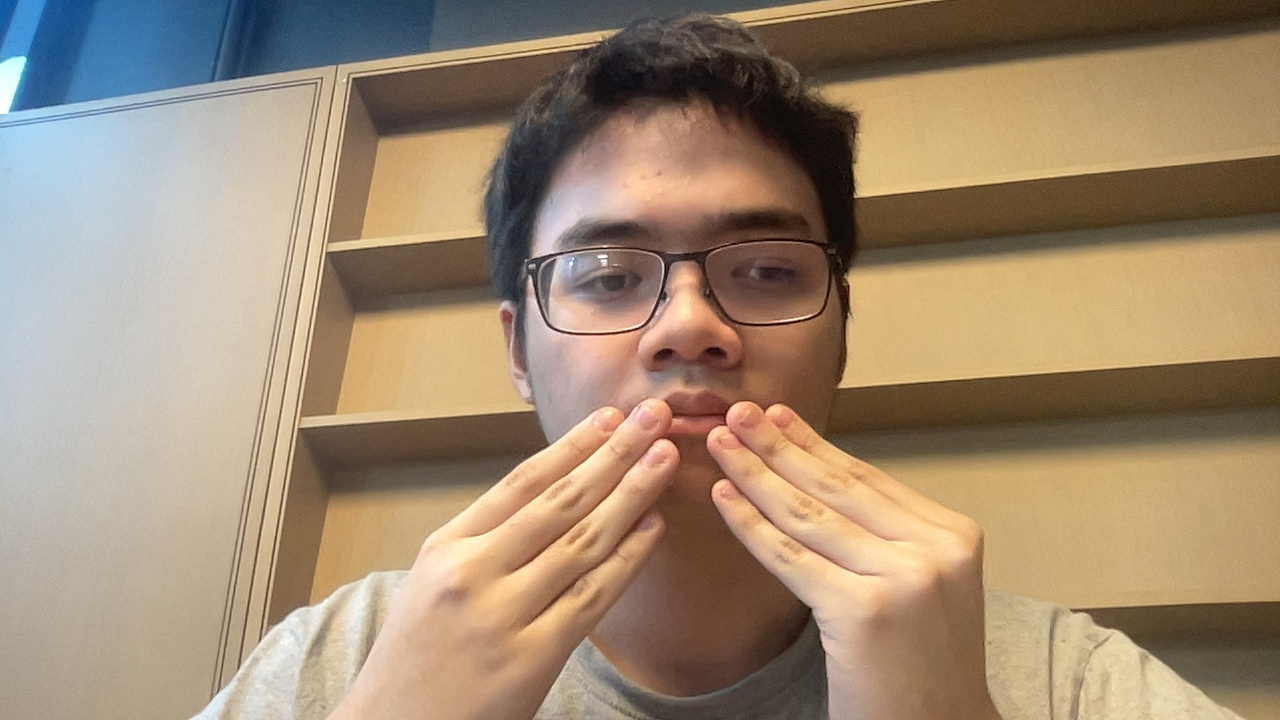thankyou: (394, 411, 1036, 690)
